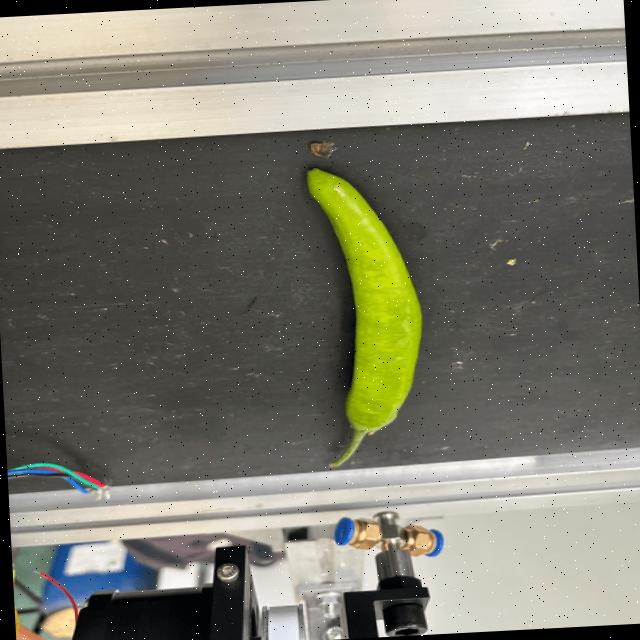chili: (306, 167, 426, 433)
